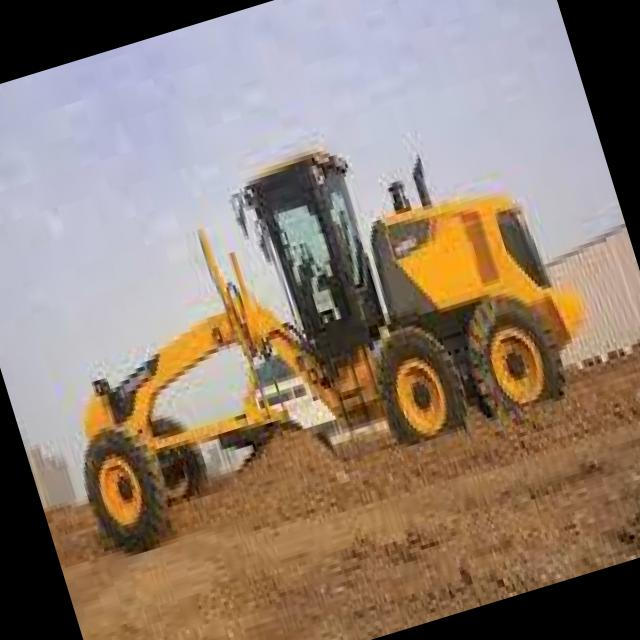Grader: (0, 68, 609, 594)
